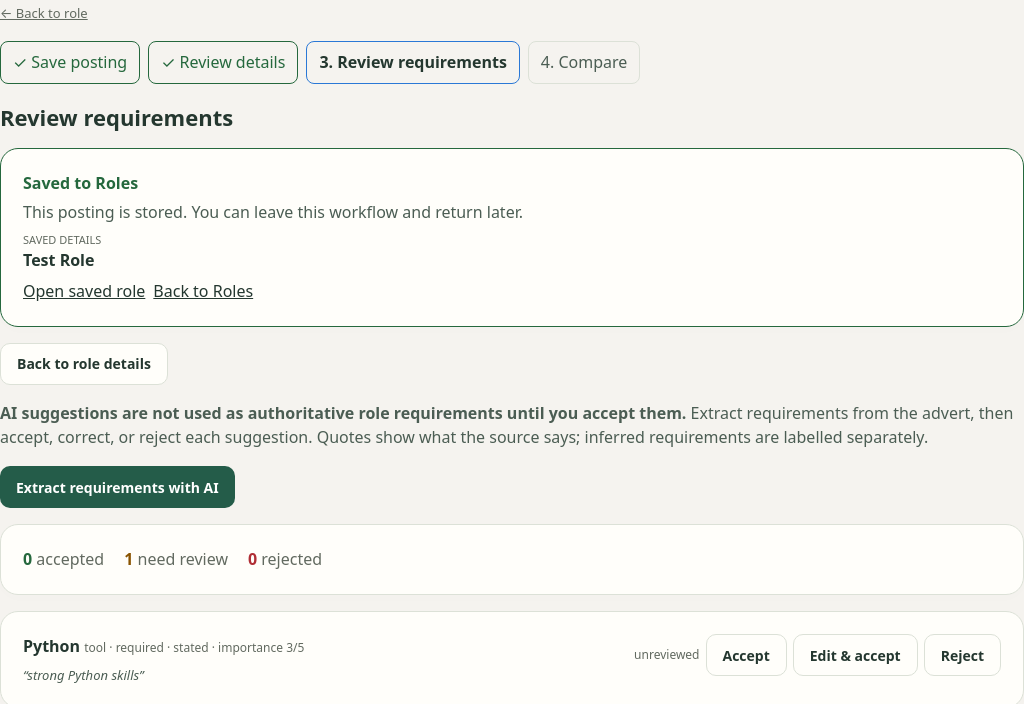
Test: edit & accept › an edit form drops the evidence span once basis is no longer stated/implied
Click the button "Edit & accept" at (855, 655), box x1=793 y1=634 x2=918 y2=676
(page scrolled)
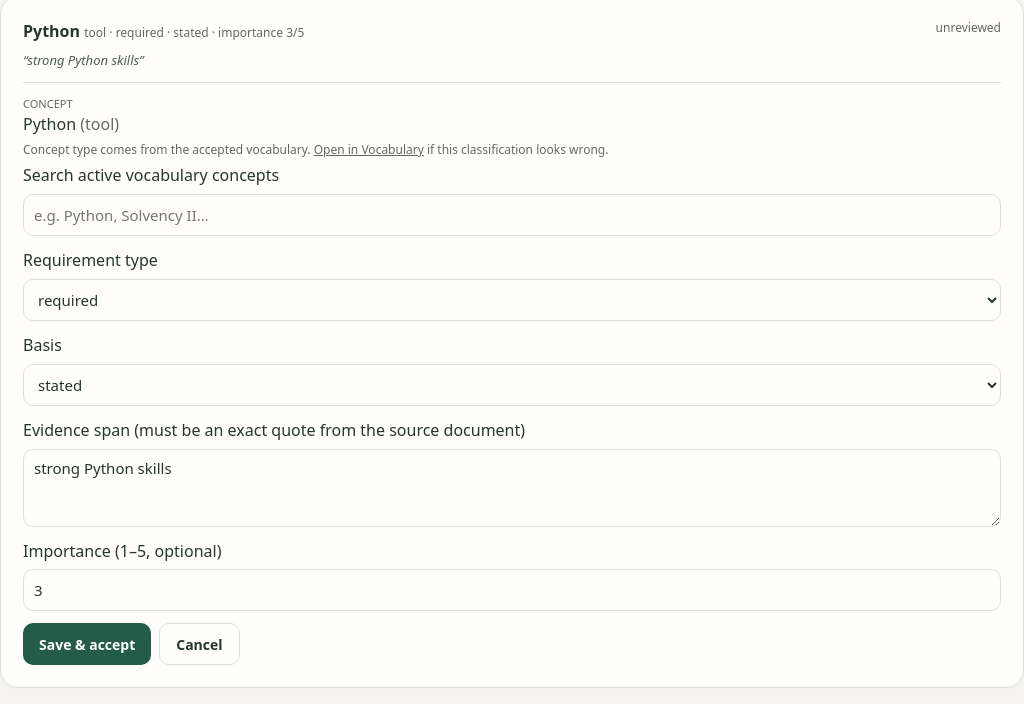
Expected: the text box labelled "Evidence span (must be an exact quote from the source document)" is shown, x1=23 y1=449 x2=1001 y2=527
Select "user-asserted" in the dropdown labelled "Basis" at (512, 385), box x1=23 y1=364 x2=1001 y2=406
(page scrolled)
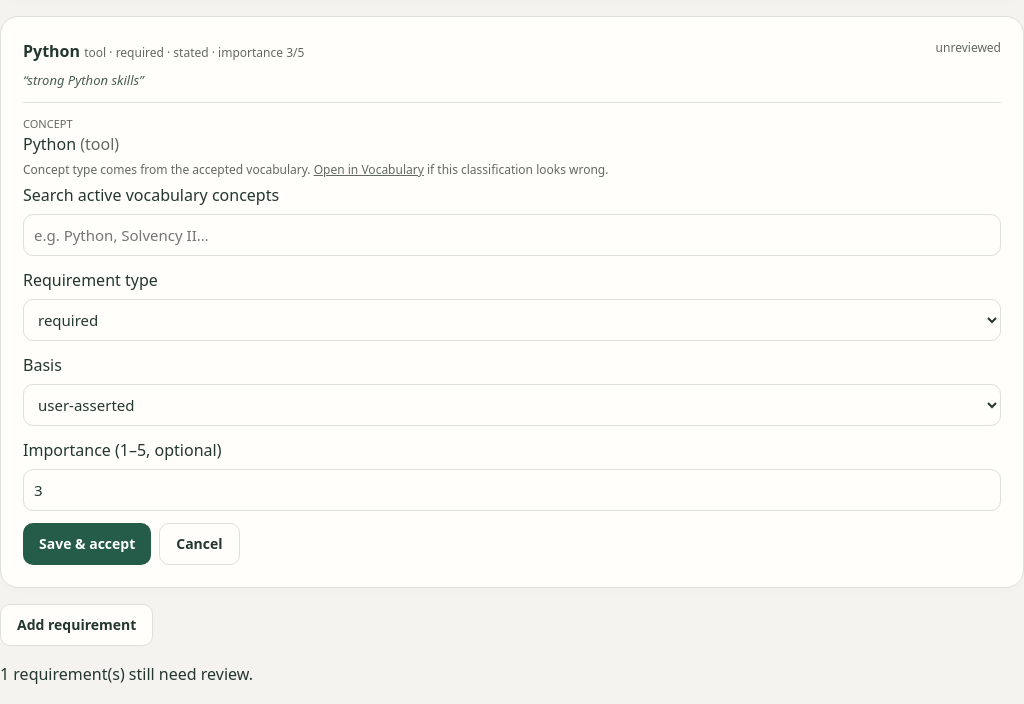
Expected: the label labelled "Evidence span (must be an exact quote from the source document)" is gone
